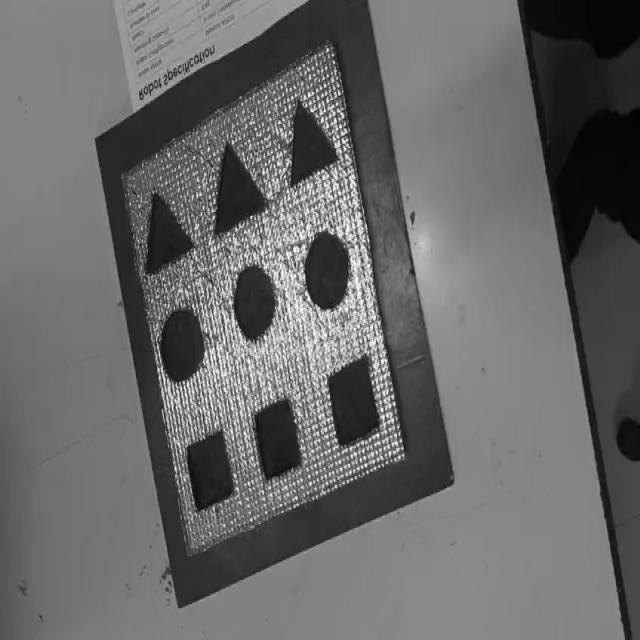mtcircle: (304, 231, 349, 311), (232, 263, 276, 342), (160, 306, 204, 380)
mtcube: (328, 355, 379, 448), (253, 396, 301, 482), (187, 429, 234, 512)
mttriangle: (213, 142, 268, 237), (288, 98, 336, 188), (144, 193, 193, 275)
wb: (116, 33, 411, 568)
